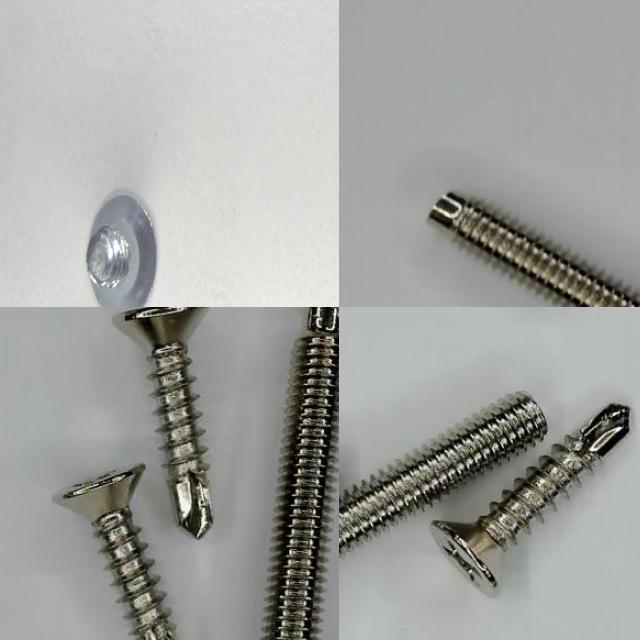Screw: (431, 404, 629, 596), (339, 392, 547, 552), (263, 307, 339, 640), (428, 193, 640, 307), (113, 307, 212, 538), (55, 464, 174, 640), (86, 194, 155, 307)
